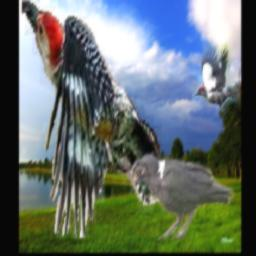Crow: (130, 153, 234, 241)
Woodpecker: (23, 0, 169, 238), (192, 44, 240, 119)
